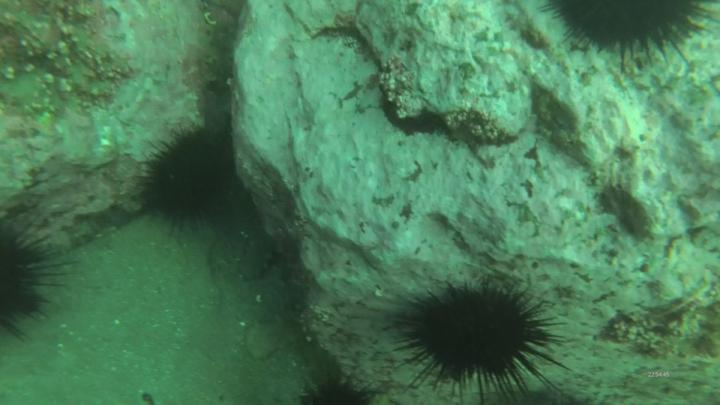echinus: (410, 289, 539, 386), (549, 3, 715, 63), (151, 136, 233, 225), (2, 244, 51, 329)
